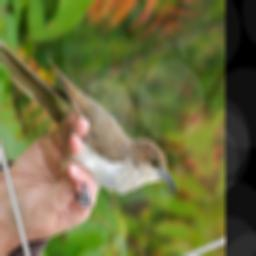Cuckoo: (0, 0, 180, 249)
